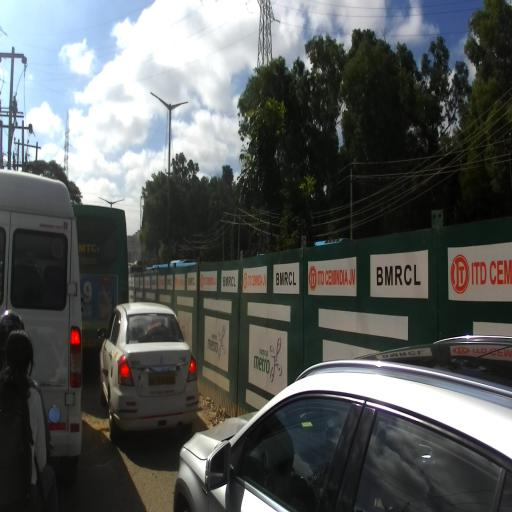street_light_0: (150, 92, 171, 112), (169, 101, 188, 113), (98, 197, 112, 205), (111, 199, 124, 205)
